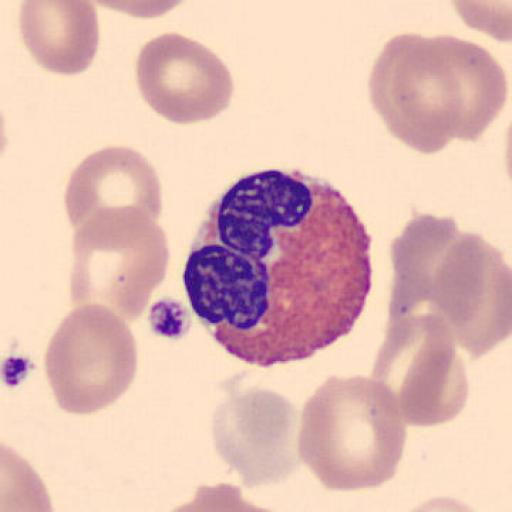RBC: (296, 372, 408, 493), (386, 213, 484, 348), (68, 202, 172, 324), (368, 31, 466, 157), (370, 310, 471, 428), (43, 302, 139, 416), (63, 142, 165, 244), (432, 230, 511, 357), (419, 32, 508, 142), (134, 30, 234, 126), (210, 386, 301, 488), (388, 212, 468, 324), (17, 1, 102, 77), (154, 481, 292, 512), (0, 441, 54, 512), (448, 0, 512, 42), (80, 0, 197, 20), (391, 493, 495, 512), (502, 90, 512, 202)
WBC: (183, 168, 375, 367)
